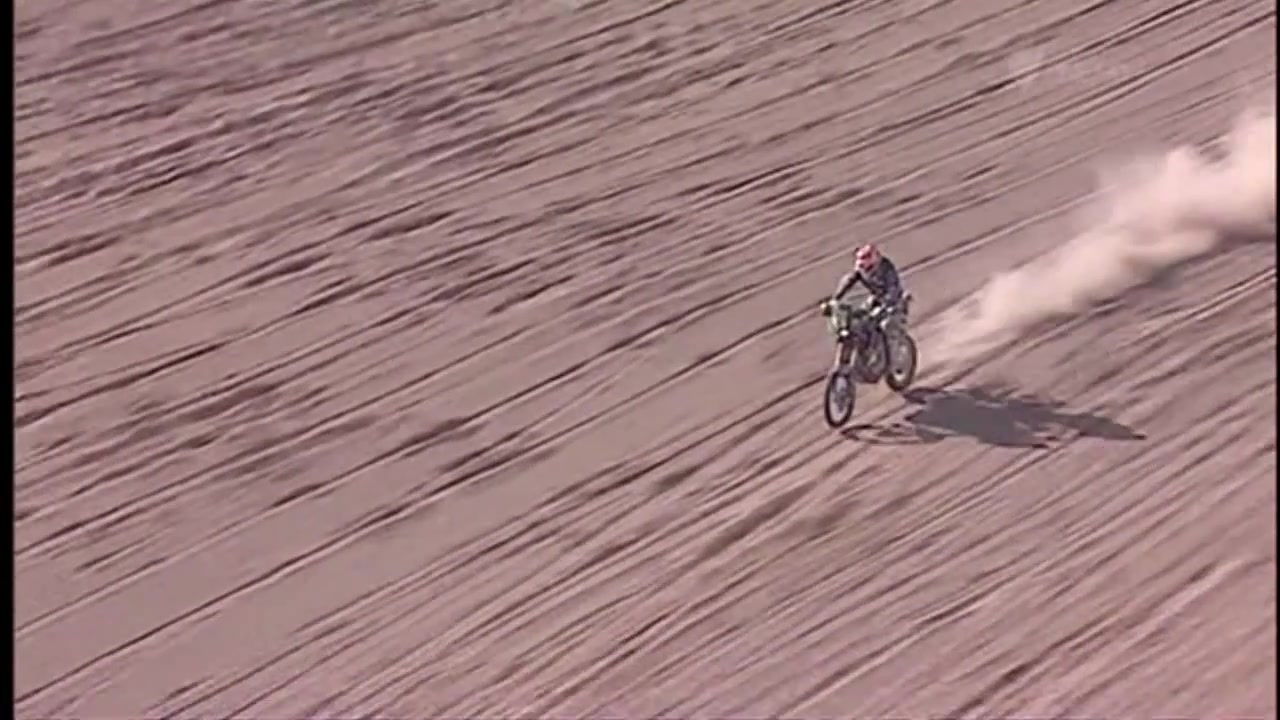motorbike: (819, 308, 922, 430)
